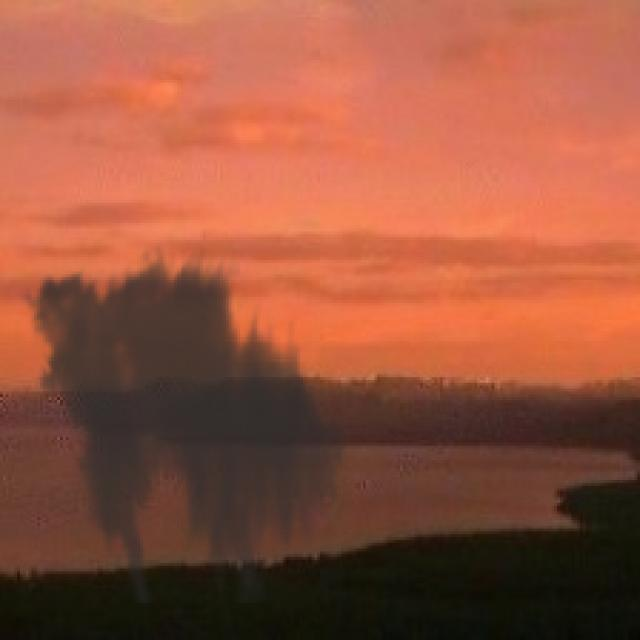smoke: (14, 240, 357, 603)
